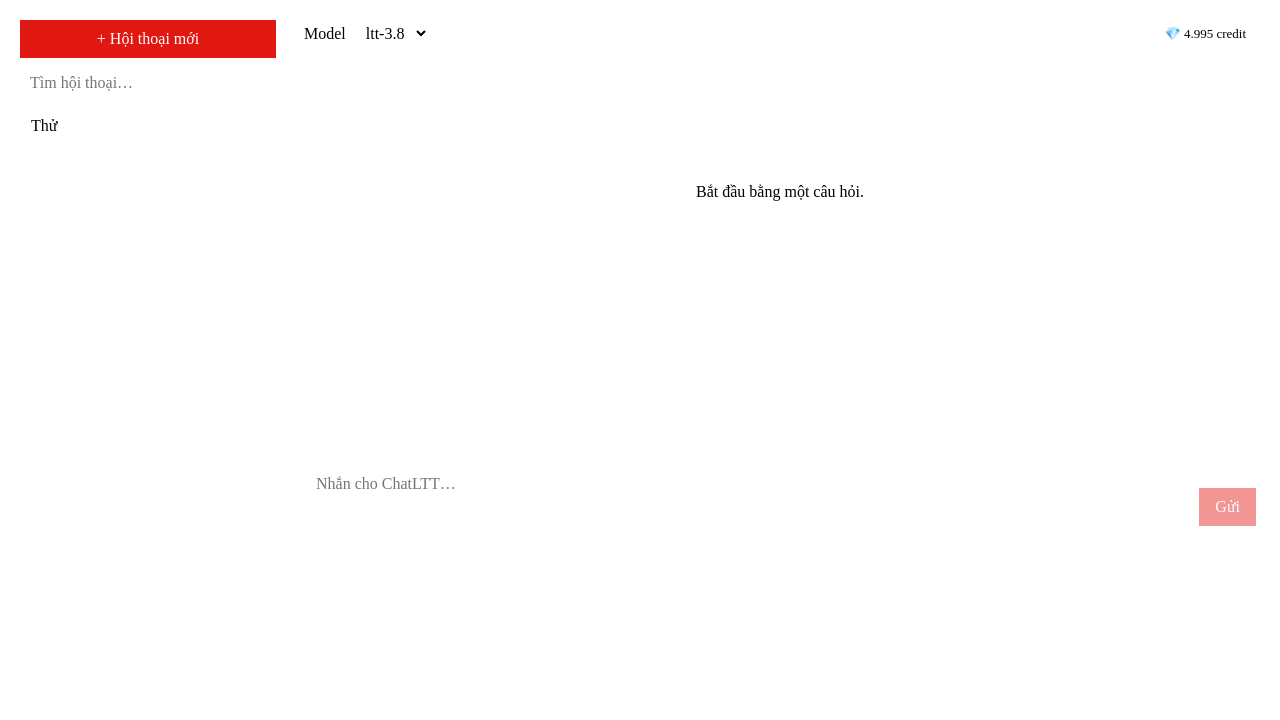
Test case: App — Doc to va trang thai nang luc › "Doc to" chuyen chu sang o tieng, va VAN phai xac nhan gia
Click the button "Thử". click: (148, 126)
box: [20,108,276,144]
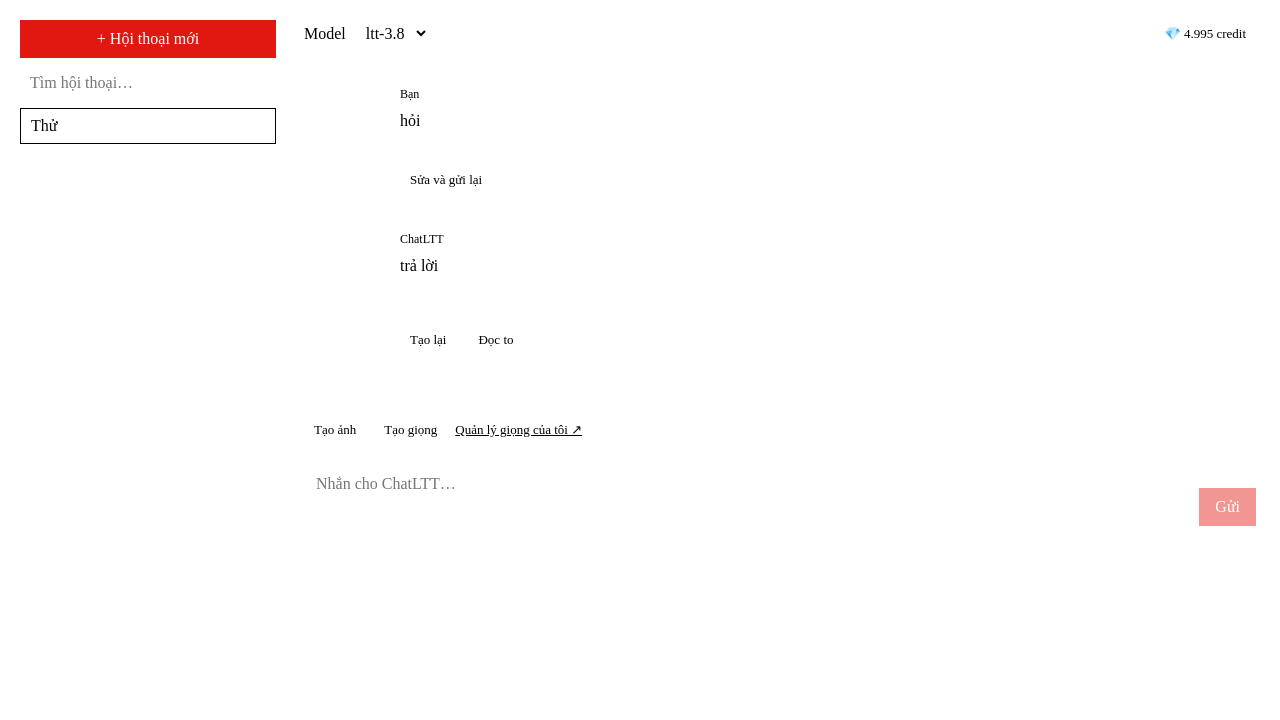
Click the button "Đọc to". click: (496, 340)
box: [468,328,524,352]
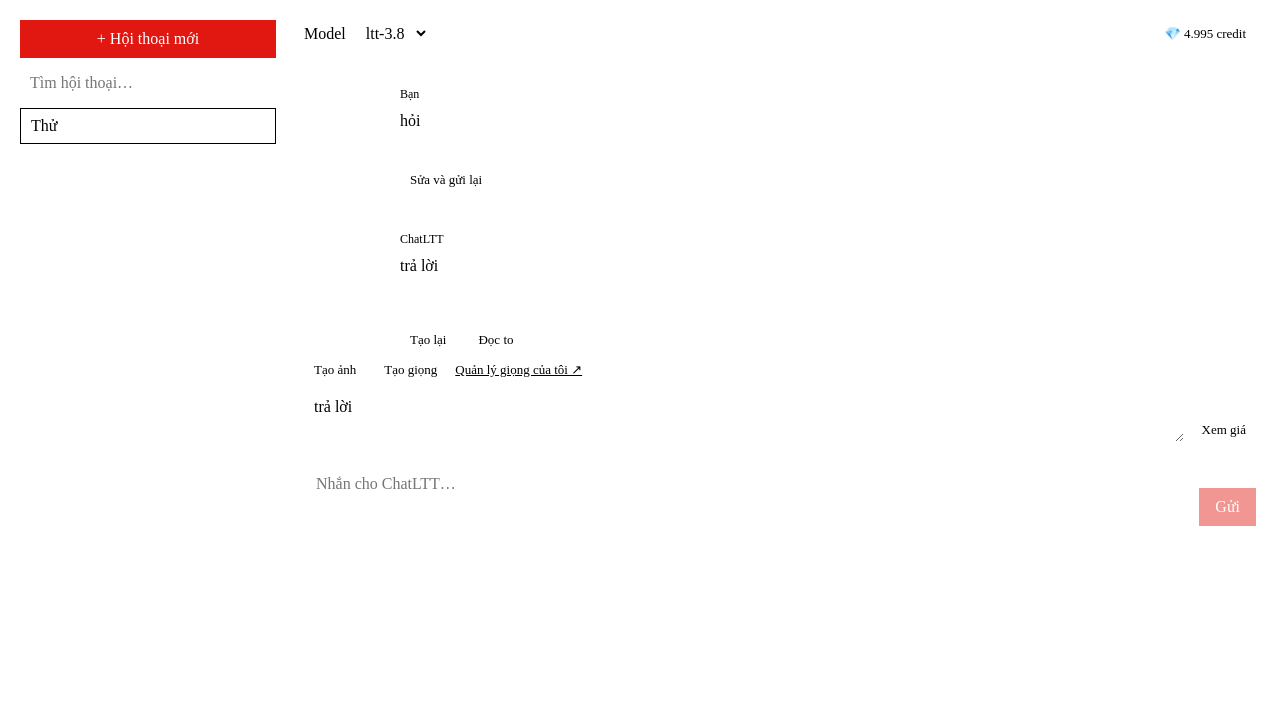
Check: the text box named "Văn bản cần đọc" holds "trả lời", box [304,390,1184,442]
Check: the button "Xem giá" is enabled, box [1192,418,1256,442]
